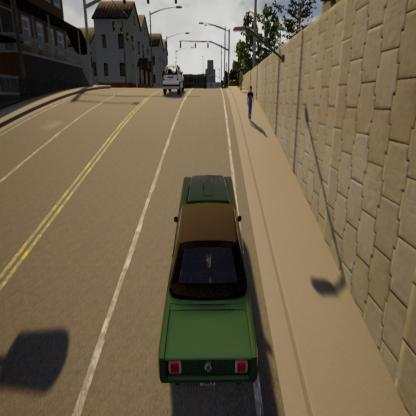Cars: (141, 162, 268, 404), (161, 63, 186, 98)
Pedestrian: (246, 83, 256, 128), (236, 68, 246, 93), (234, 64, 244, 87)
